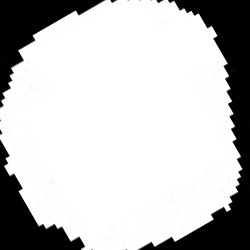spot: (1, 1, 241, 249)
